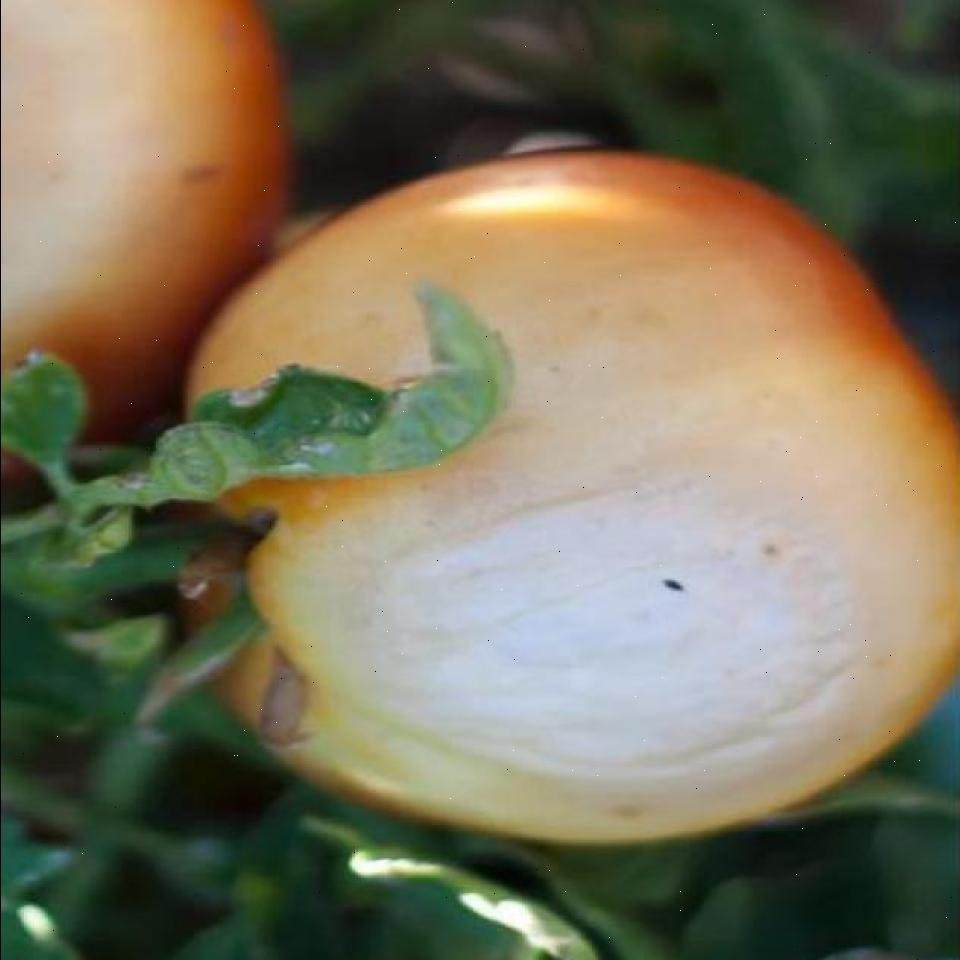Sunscald: (318, 337, 938, 852), (1, 0, 206, 445)
